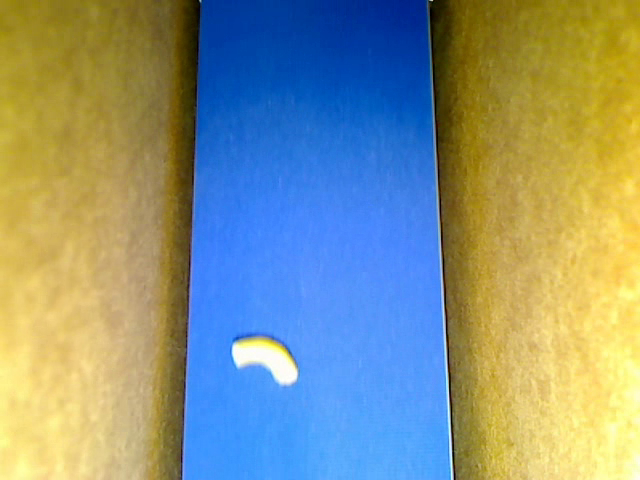elbow: (231, 335, 300, 385)
